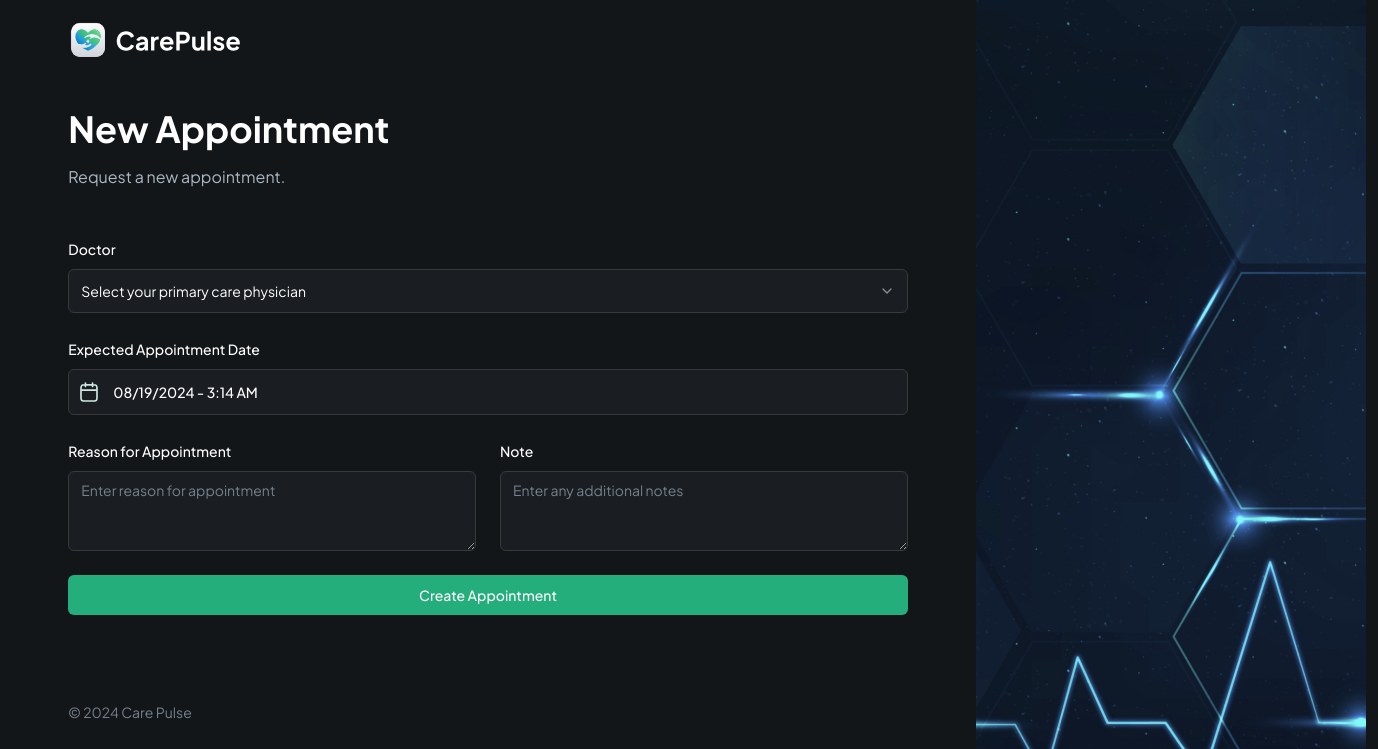
Test: Appointment Page › should remove the errors when they're fixed
Click the submit button: (488, 595) 68,575 -> 907,615
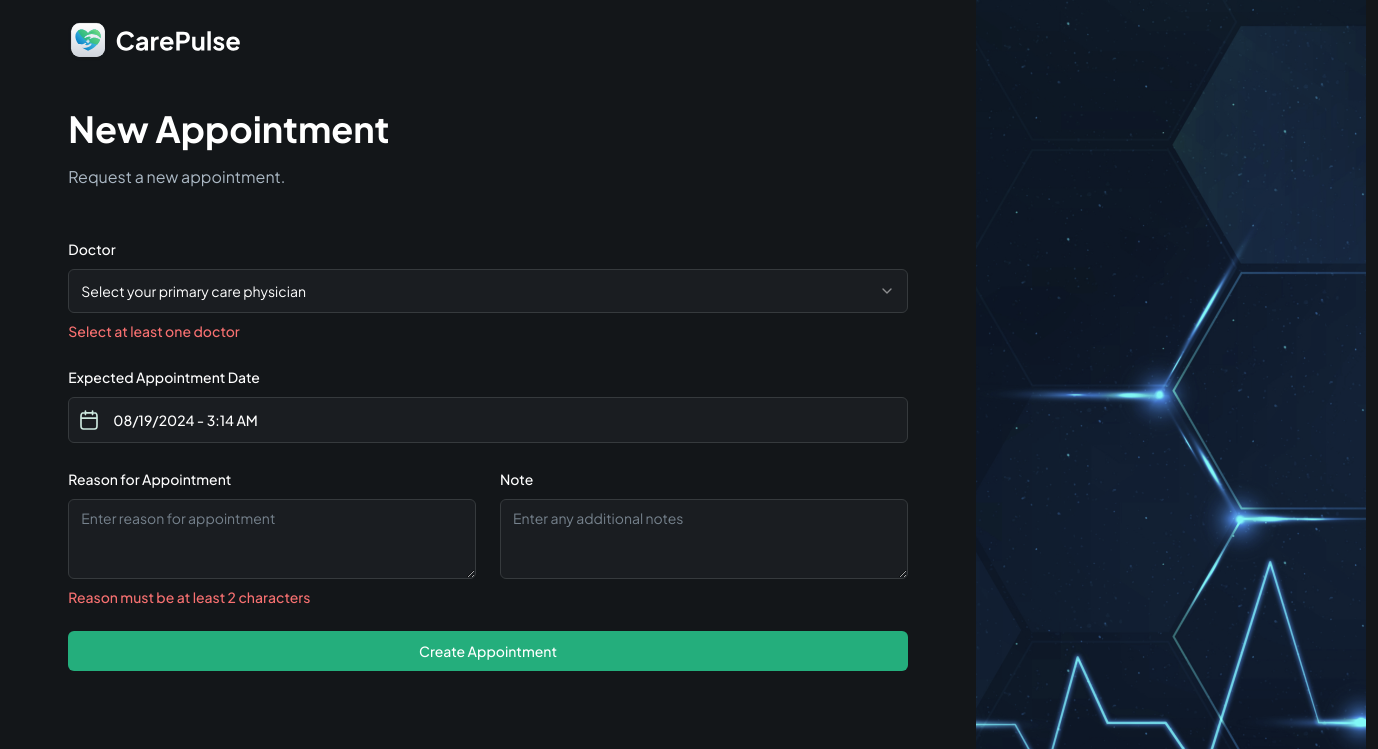
Now the text with class "shad-error" reads "Select at least one doctor", box 68,322 -> 240,340
Now the text with class "shad-error" reads "Reason must be at least 2 characters", box 68,588 -> 310,606
Click the dropdown with class "shad-select-trigger": (194, 291) 68,269 -> 907,313
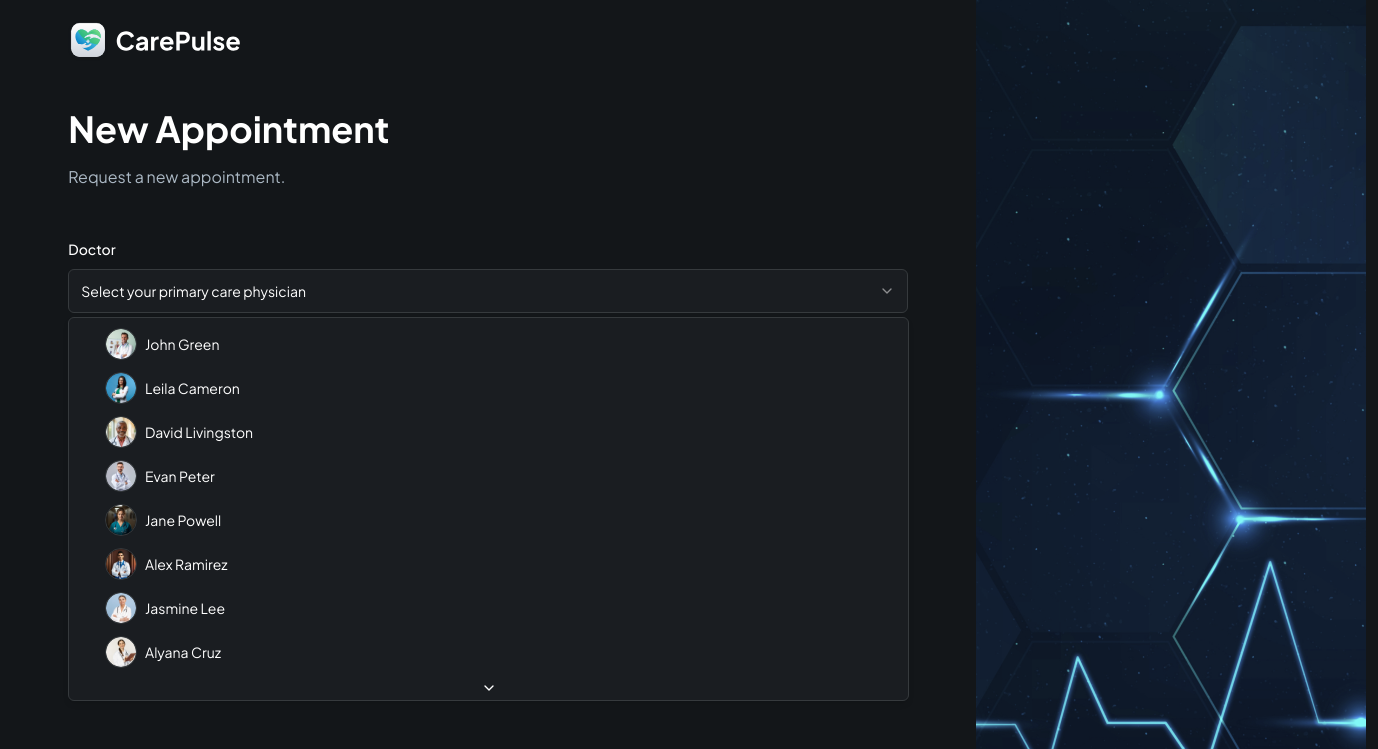
Click the text "John Green": (182, 344) 145,334 -> 219,354
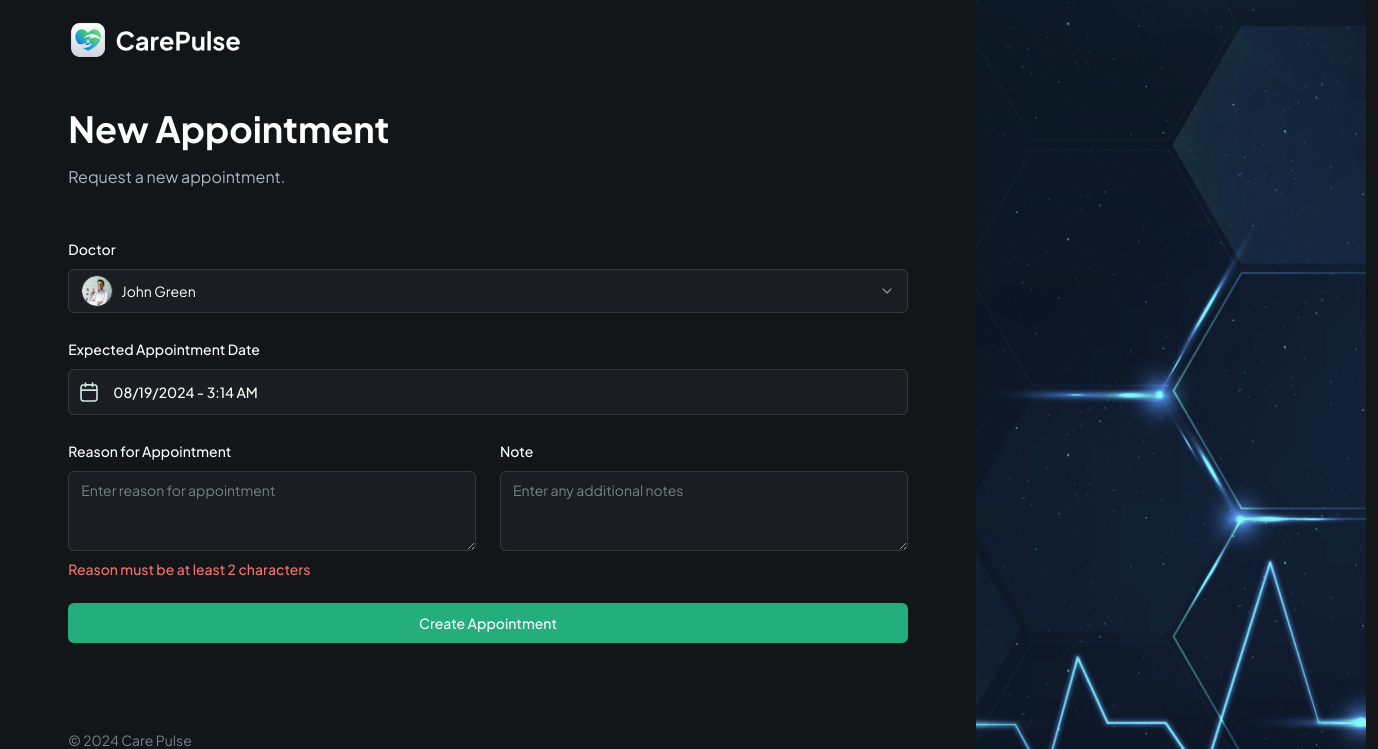
Scroll
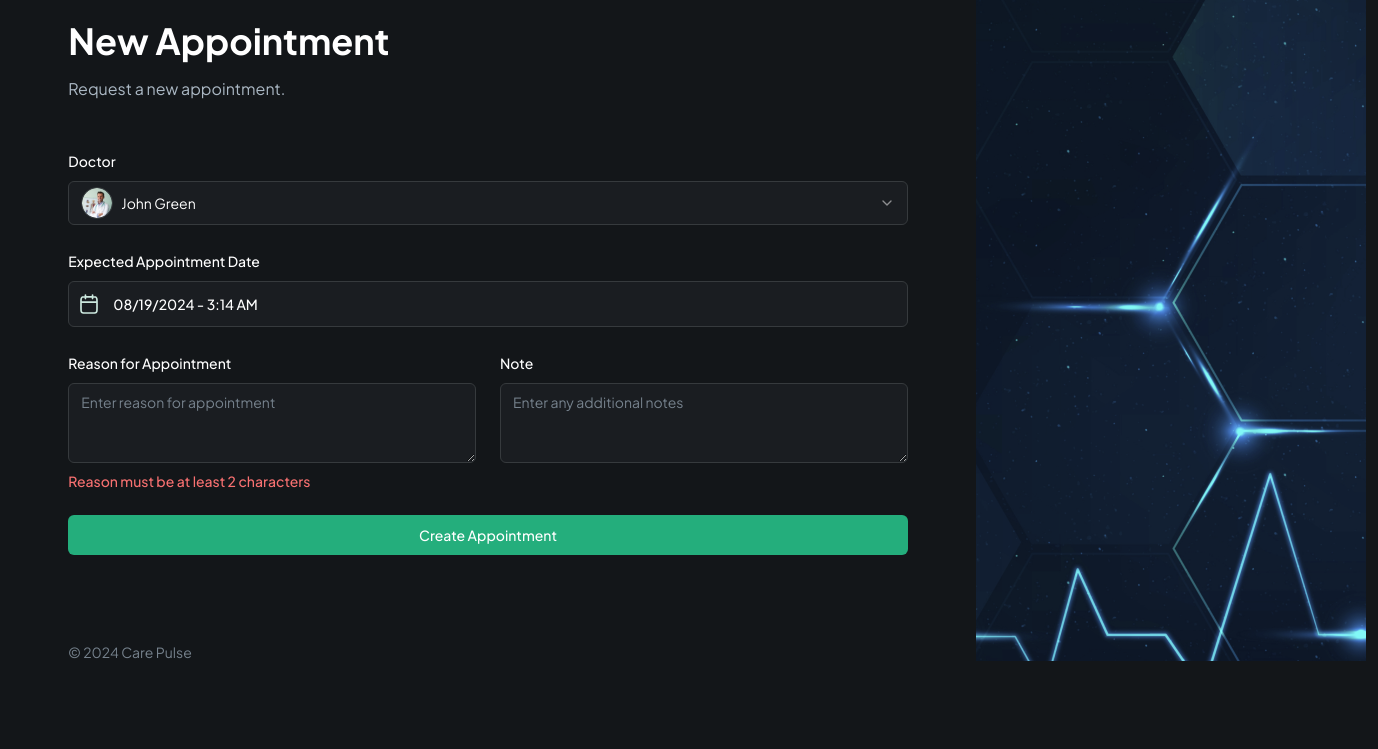
In the text box named "reason": (272, 423) 68,383 -> 476,463, type "I need a checkup"
(page scrolled)
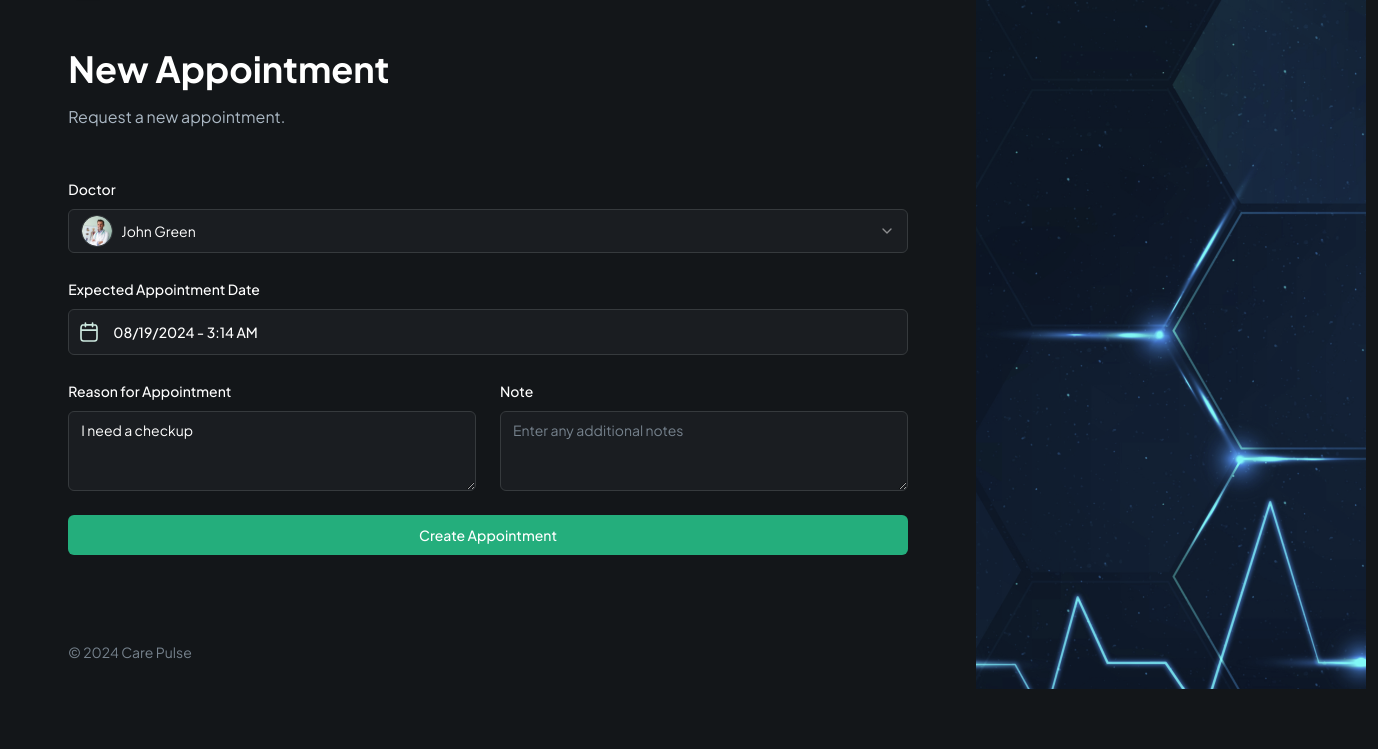
Now the text with class "shad-error" is gone
